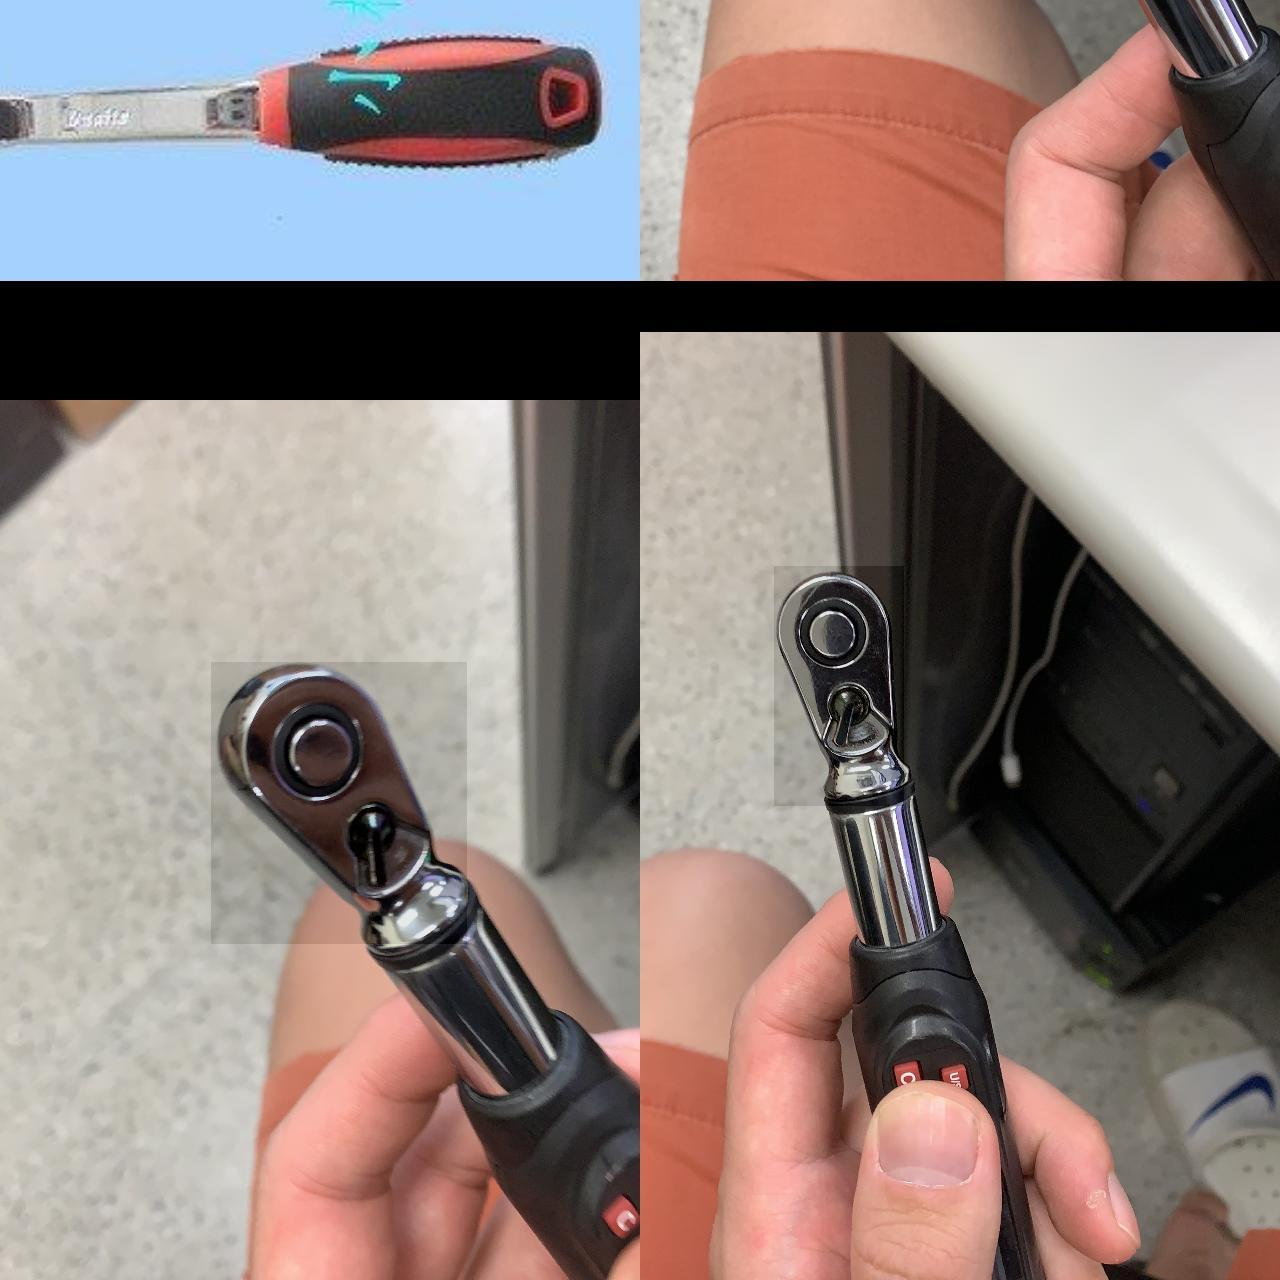Tool: (211, 661, 467, 942), (774, 565, 904, 805)
